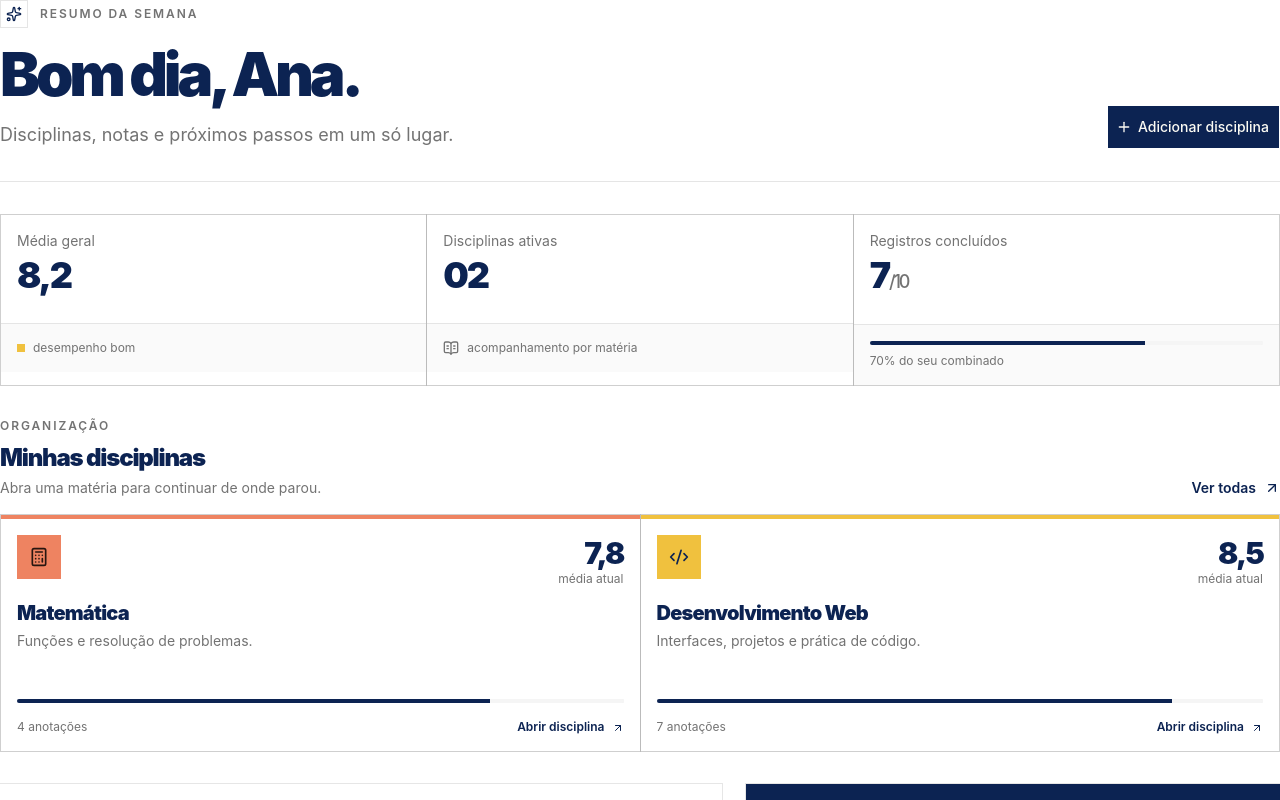
Test: contrato de interação do dashboard › abre o formulário de nova disciplina com campos acessíveis
Click the button "Adicionar disciplina" at (1194, 127), box [1107, 105, 1279, 149]
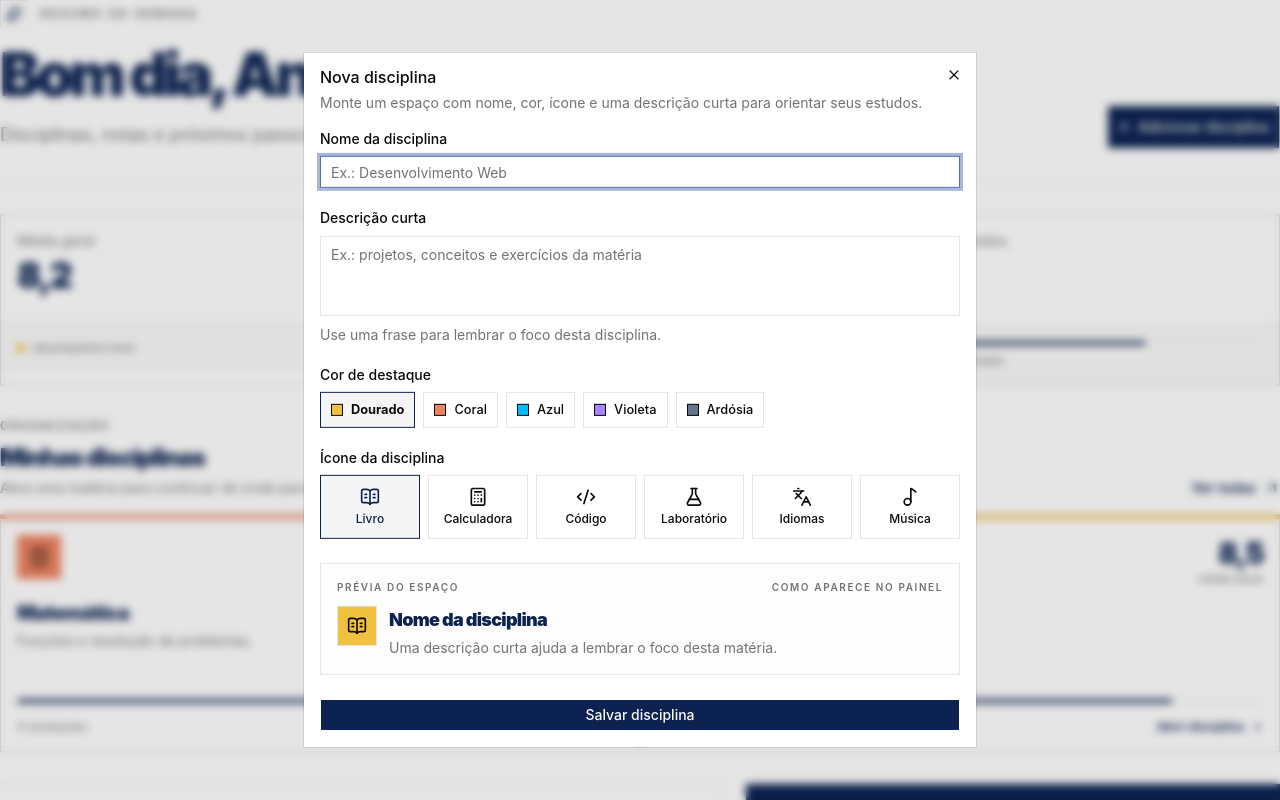
Now the dialog "Nova disciplina" is shown, box [304, 53, 976, 747]
Now the field labelled "Nome da disciplina" is shown, box [320, 156, 960, 188]
